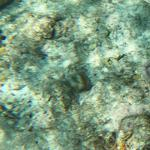alive: (3, 1, 144, 147)
